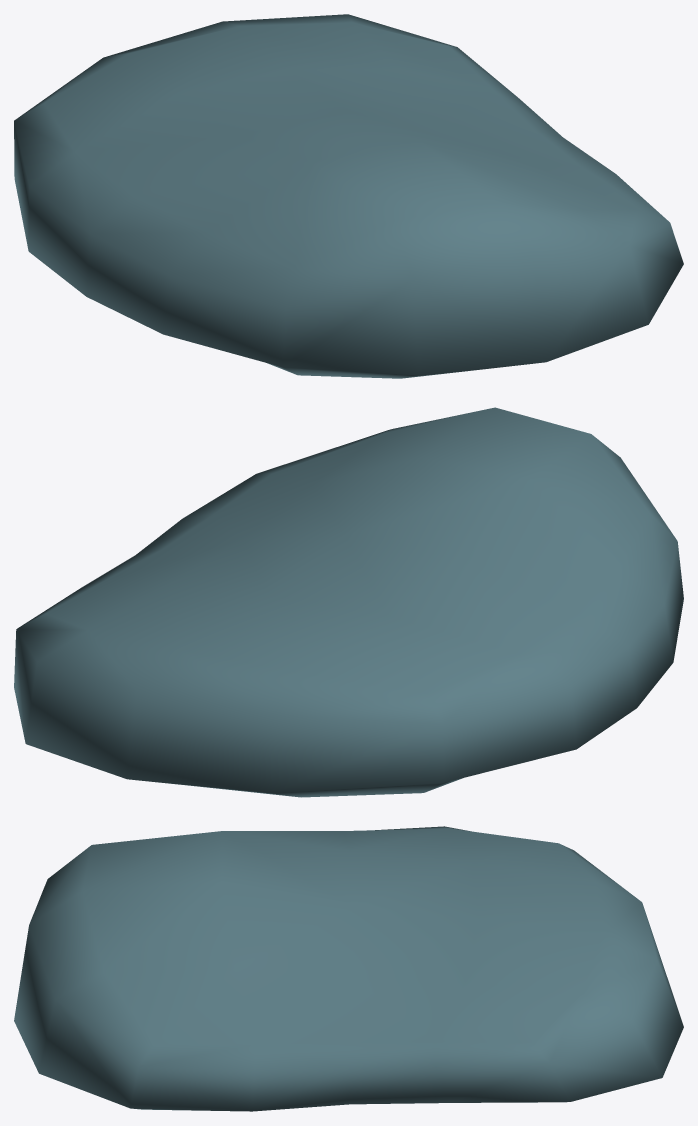
Rendered from Rock_B_06_LOD2.gltf.
3 renders of one model, top to bottom at view 1: azimuth 30°, elevation 25°; view 2: azimuth 150°, elevation 25°; view 3: azimuth 270°, elevation 25°, orthographic. The views are drawn at different scales.
Visible parts, largest first — view 1: Rock_B_06_LOD2_Cube.759; view 2: Rock_B_06_LOD2_Cube.759; view 3: Rock_B_06_LOD2_Cube.759.
Part boxes in pixels (x1,y1,x2,y2): Rock_B_06_LOD2_Cube.759: (14, 14, 683, 378); Rock_B_06_LOD2_Cube.759: (14, 407, 683, 797); Rock_B_06_LOD2_Cube.759: (14, 826, 683, 1111).
Bounding box in the file's own units: 4.32 × 1.47 × 5.54.
1 material, 1 textured.
